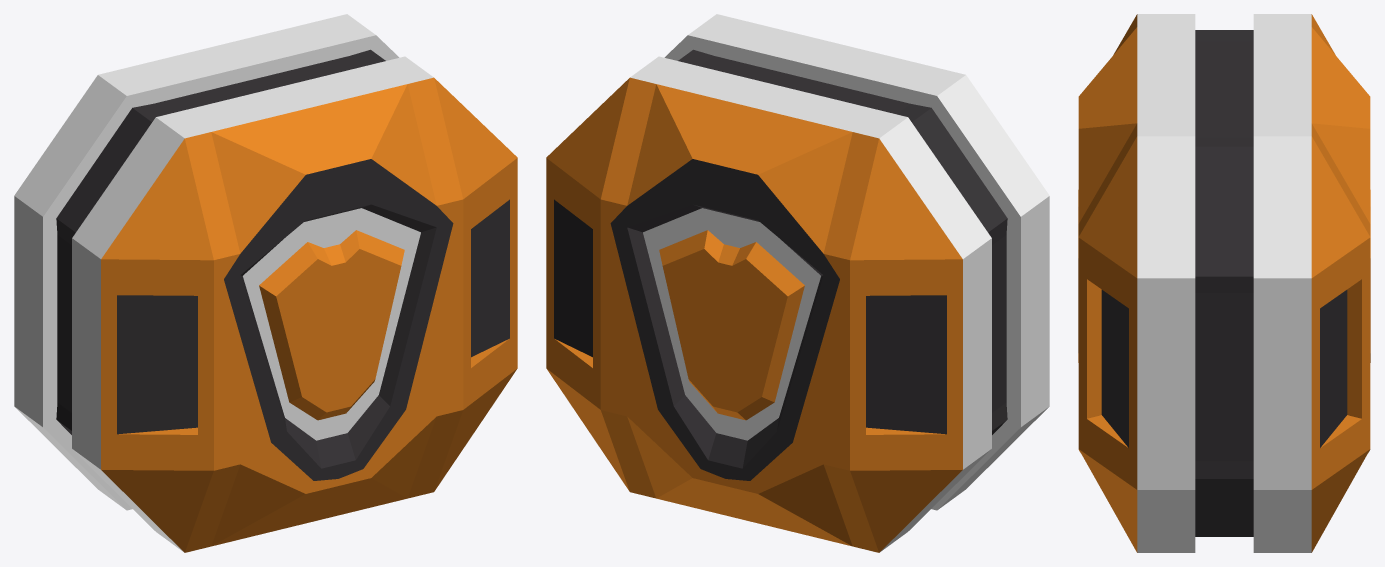
Rendered from Armadura 01.fbx.
3 renders of one model, left to right at view 1: azimuth 30°, elevation 25°; view 2: azimuth 150°, elevation 25°; view 3: azimuth 270°, elevation 25°, orthographic.
Visible parts, largest first — view 1: Cube.002, Cube.003; view 2: Cube.002, Cube.003; view 3: Cube.002.
Part boxes in pixels (x1,y1,x2,y2): Cube.002: [14, 14, 517, 552]; Cube.003: [259, 230, 404, 420]; Cube.002: [546, 14, 1049, 552]; Cube.003: [659, 230, 804, 420]; Cube.002: [1078, 14, 1370, 552].
Bounding box in the file's own units: 0.4822 × 0.4584 × 0.2918.
